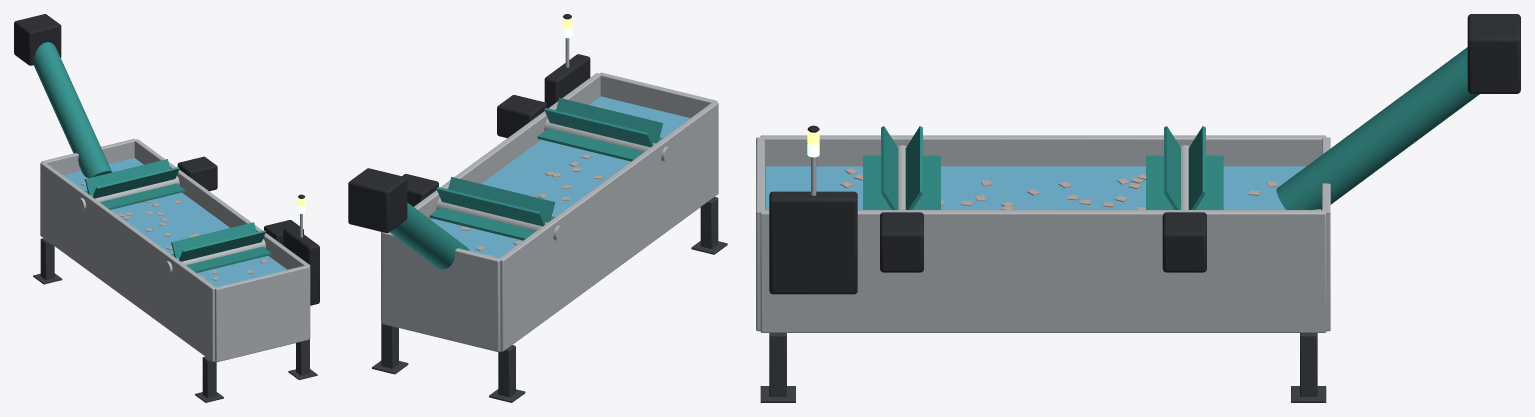
File: wash_tank.fbx
3 renders of one model, left to right at view 1: azimuth 30°, elevation 25°; view 2: azimuth 150°, elevation 25°; view 3: azimuth 270°, elevation 25°, orthographic. The views are drawn at different scales.
Parts seen in each view (by area): view 1: wash_tank; view 2: wash_tank; view 3: wash_tank.
Part boxes in pixels (x1,y1,x2,y2): wash_tank: (14, 14, 319, 402); wash_tank: (348, 14, 727, 402); wash_tank: (756, 14, 1520, 402).
Bounding box in the file's own units: 1.45 × 2.08 × 4.33.
